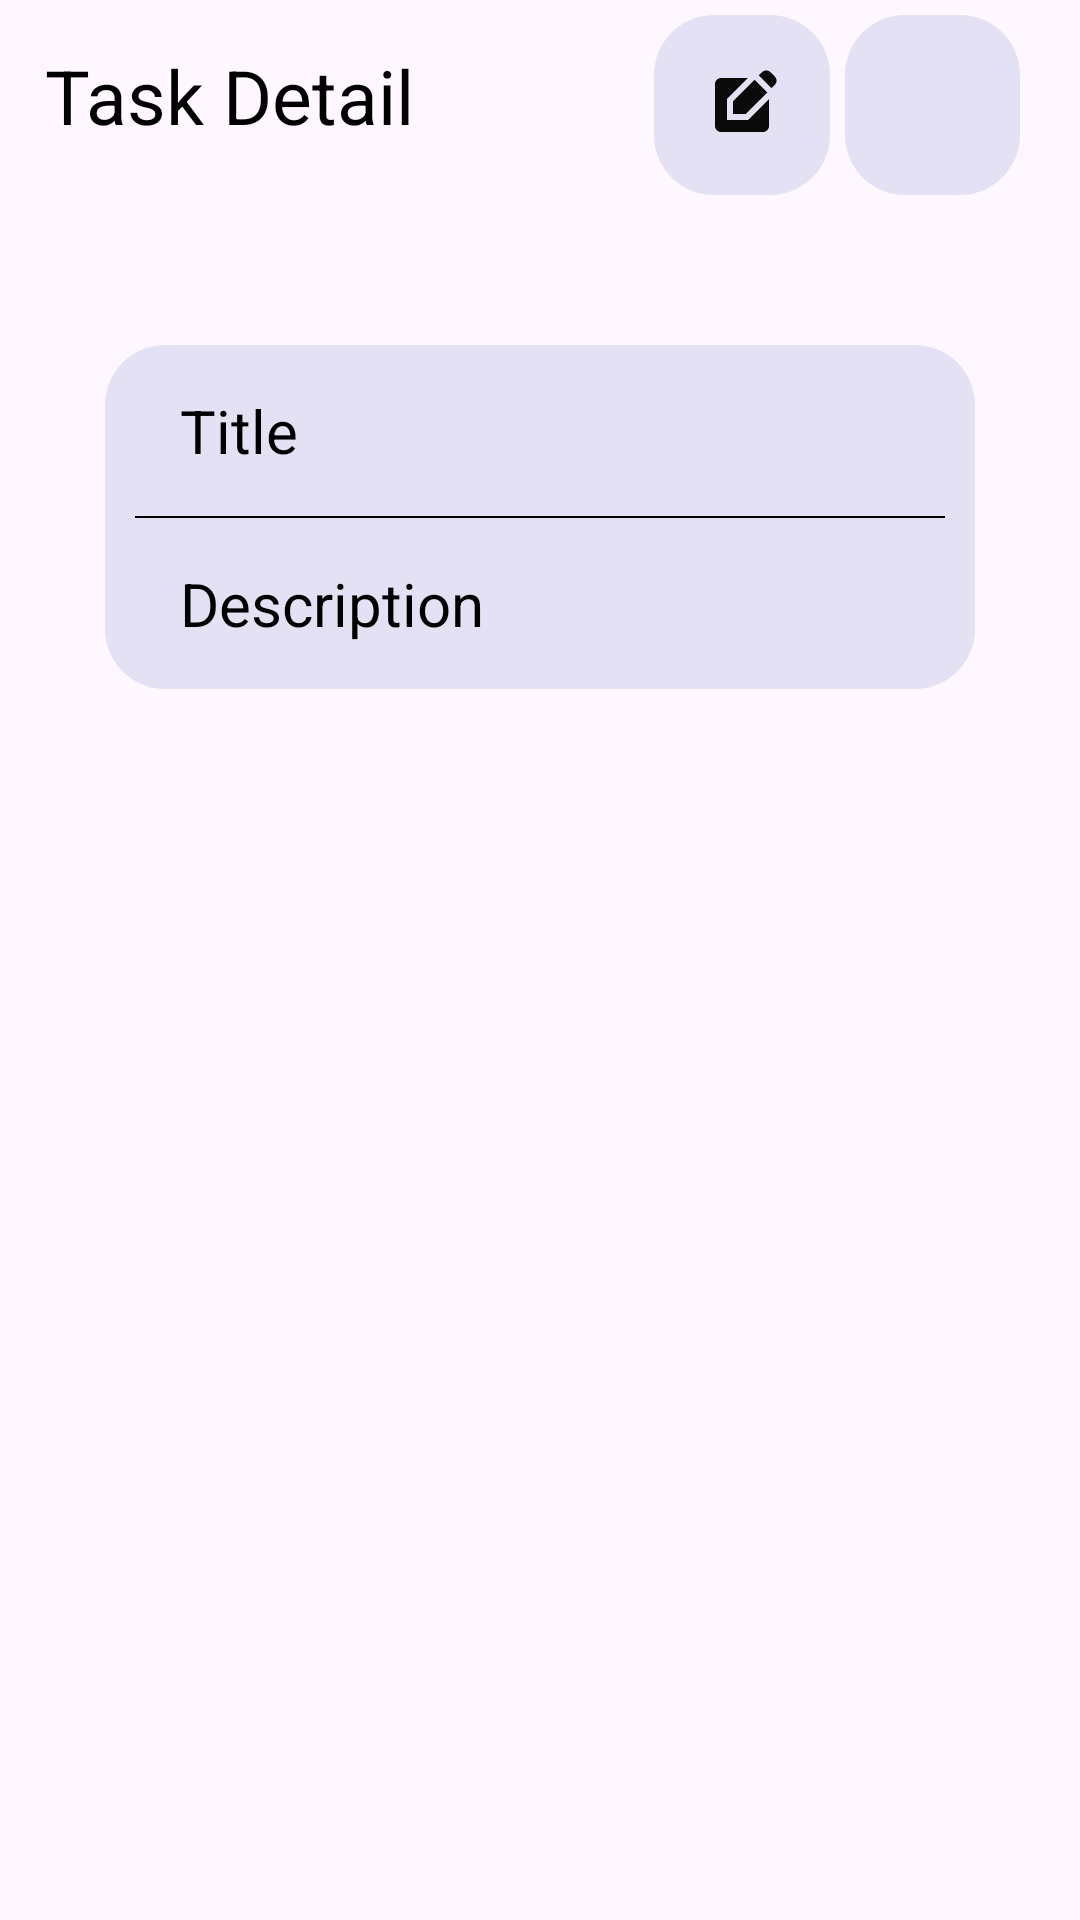

Icons on this 1080 × 1920 Android screen, each with the point to tap as [x,y]:
Edit Task: [742,105]
